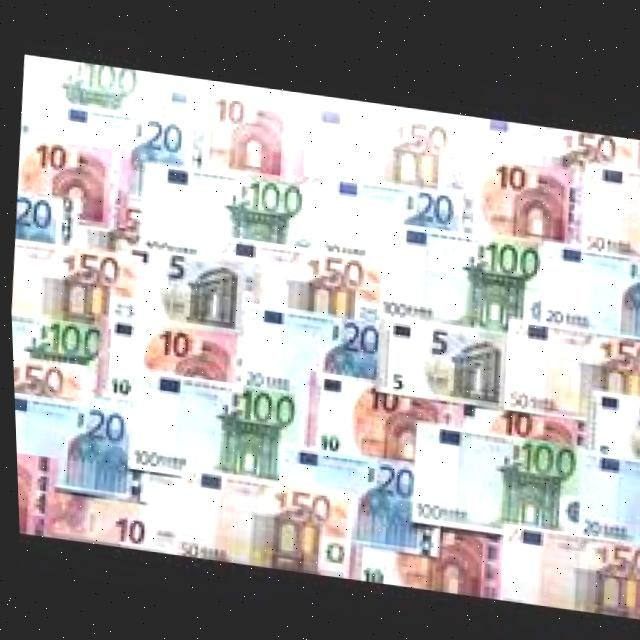banknote: (16, 48, 206, 162), (411, 420, 582, 541), (376, 218, 555, 333), (122, 376, 302, 487), (138, 163, 313, 266), (308, 373, 482, 472), (211, 477, 350, 577), (344, 506, 505, 592), (292, 451, 429, 547), (194, 86, 334, 179), (336, 96, 478, 183), (331, 177, 462, 270), (119, 241, 259, 328), (12, 240, 139, 333), (12, 399, 129, 496), (384, 313, 503, 406), (502, 523, 635, 604), (468, 145, 584, 237), (249, 303, 390, 378), (503, 314, 640, 386), (14, 142, 118, 230), (14, 484, 152, 549), (552, 239, 640, 333), (481, 114, 640, 165), (501, 331, 599, 413), (258, 246, 375, 314), (123, 475, 218, 557), (133, 315, 241, 384), (577, 157, 640, 253), (577, 446, 640, 535), (495, 404, 594, 447), (9, 322, 103, 367), (510, 430, 580, 475), (593, 383, 640, 449), (77, 59, 147, 102), (102, 316, 139, 397), (478, 229, 546, 273), (36, 319, 106, 360), (232, 385, 301, 426), (242, 174, 308, 216), (11, 363, 80, 402), (139, 112, 189, 158), (13, 193, 54, 248), (570, 124, 621, 163), (283, 486, 331, 527), (405, 114, 453, 154), (73, 248, 121, 288), (16, 361, 64, 399), (317, 252, 365, 290), (371, 455, 411, 498), (81, 408, 125, 446), (14, 193, 54, 234), (338, 316, 380, 355), (413, 185, 455, 223), (602, 534, 640, 574), (103, 511, 146, 546), (488, 153, 529, 188), (151, 325, 192, 358), (609, 329, 640, 372), (208, 89, 247, 123), (360, 379, 401, 410), (420, 318, 450, 359), (29, 142, 69, 172), (496, 403, 534, 434), (115, 201, 145, 235), (158, 249, 188, 282), (500, 378, 530, 408), (104, 368, 131, 400), (128, 443, 157, 472), (539, 295, 564, 324), (582, 222, 608, 249), (171, 532, 199, 557), (578, 507, 602, 536), (237, 366, 263, 387), (630, 249, 640, 286)
